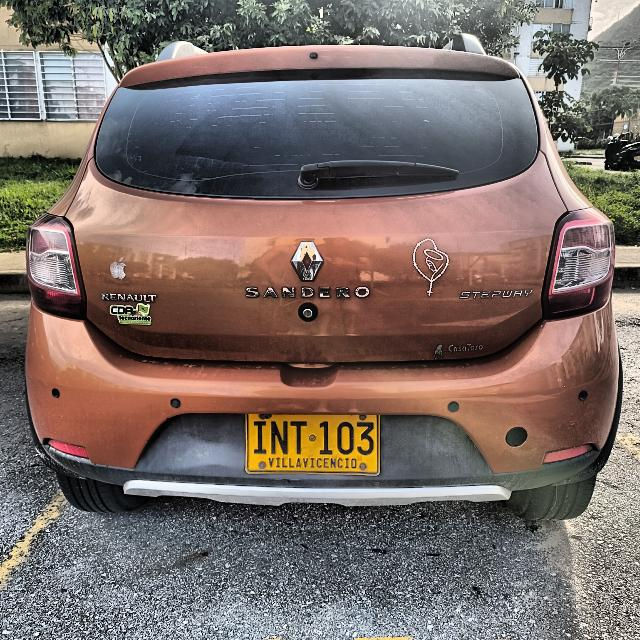plate: (247, 414, 378, 473)
